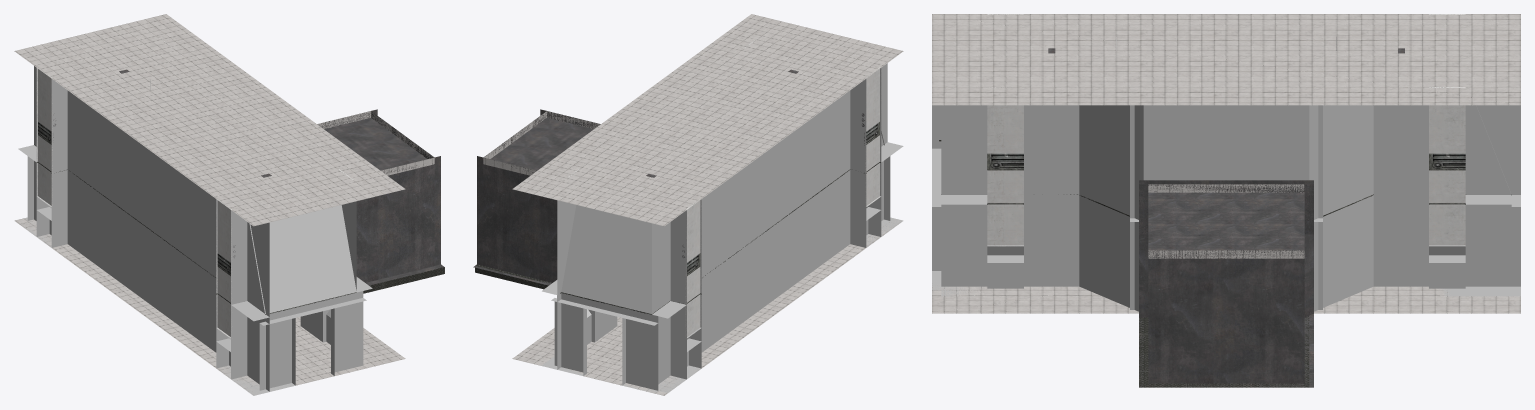
Rendered from scp_room_elevator.dae.
3 views of the same model, side by side, from view 1: azimuth 30°, elevation 25°; view 2: azimuth 150°, elevation 25°; view 3: azimuth 270°, elevation 25° (orthographic). The views are drawn at different scales.
Parts seen in each view (by area): view 1: default.002, default.006, default.008, default.004, default.003, default.005, default; view 2: default.002, default.006, default.008, default.004, default.003, default.005, default; view 3: default.002, default.006, default.008, default.003, default.004, default, default.005.
Part boxes in pixels (x1=…): default.002: x1=18, y1=66, x2=372, y2=395; default.006: x1=14, y1=14, x2=434, y2=393; default.008: x1=319, y1=109, x2=443, y2=285; default.004: x1=36, y1=38, x2=353, y2=337; default.003: x1=53, y1=69, x2=427, y2=257; default.005: x1=34, y1=122, x2=356, y2=314; default: x1=363, y1=267, x2=444, y2=293; default.002: x1=541, y1=63, x2=903, y2=392; default.006: x1=483, y1=14, x2=903, y2=395; default.008: x1=473, y1=109, x2=599, y2=285; default.004: x1=564, y1=38, x2=881, y2=338; default.003: x1=490, y1=69, x2=864, y2=257; default.005: x1=560, y1=122, x2=884, y2=314; default: x1=475, y1=264, x2=551, y2=289; default.002: x1=932, y1=105, x2=1520, y2=311; default.006: x1=932, y1=14, x2=1520, y2=313; default.008: x1=1139, y1=180, x2=1313, y2=387; default.003: x1=1048, y1=48, x2=1404, y2=340; default.004: x1=987, y1=14, x2=1465, y2=246; default: x1=1139, y1=316, x2=1309, y2=387; default.005: x1=939, y1=140, x2=1511, y2=216.
Bounding box in the file's own units: 13.6 × 20.48 × 8.87.
